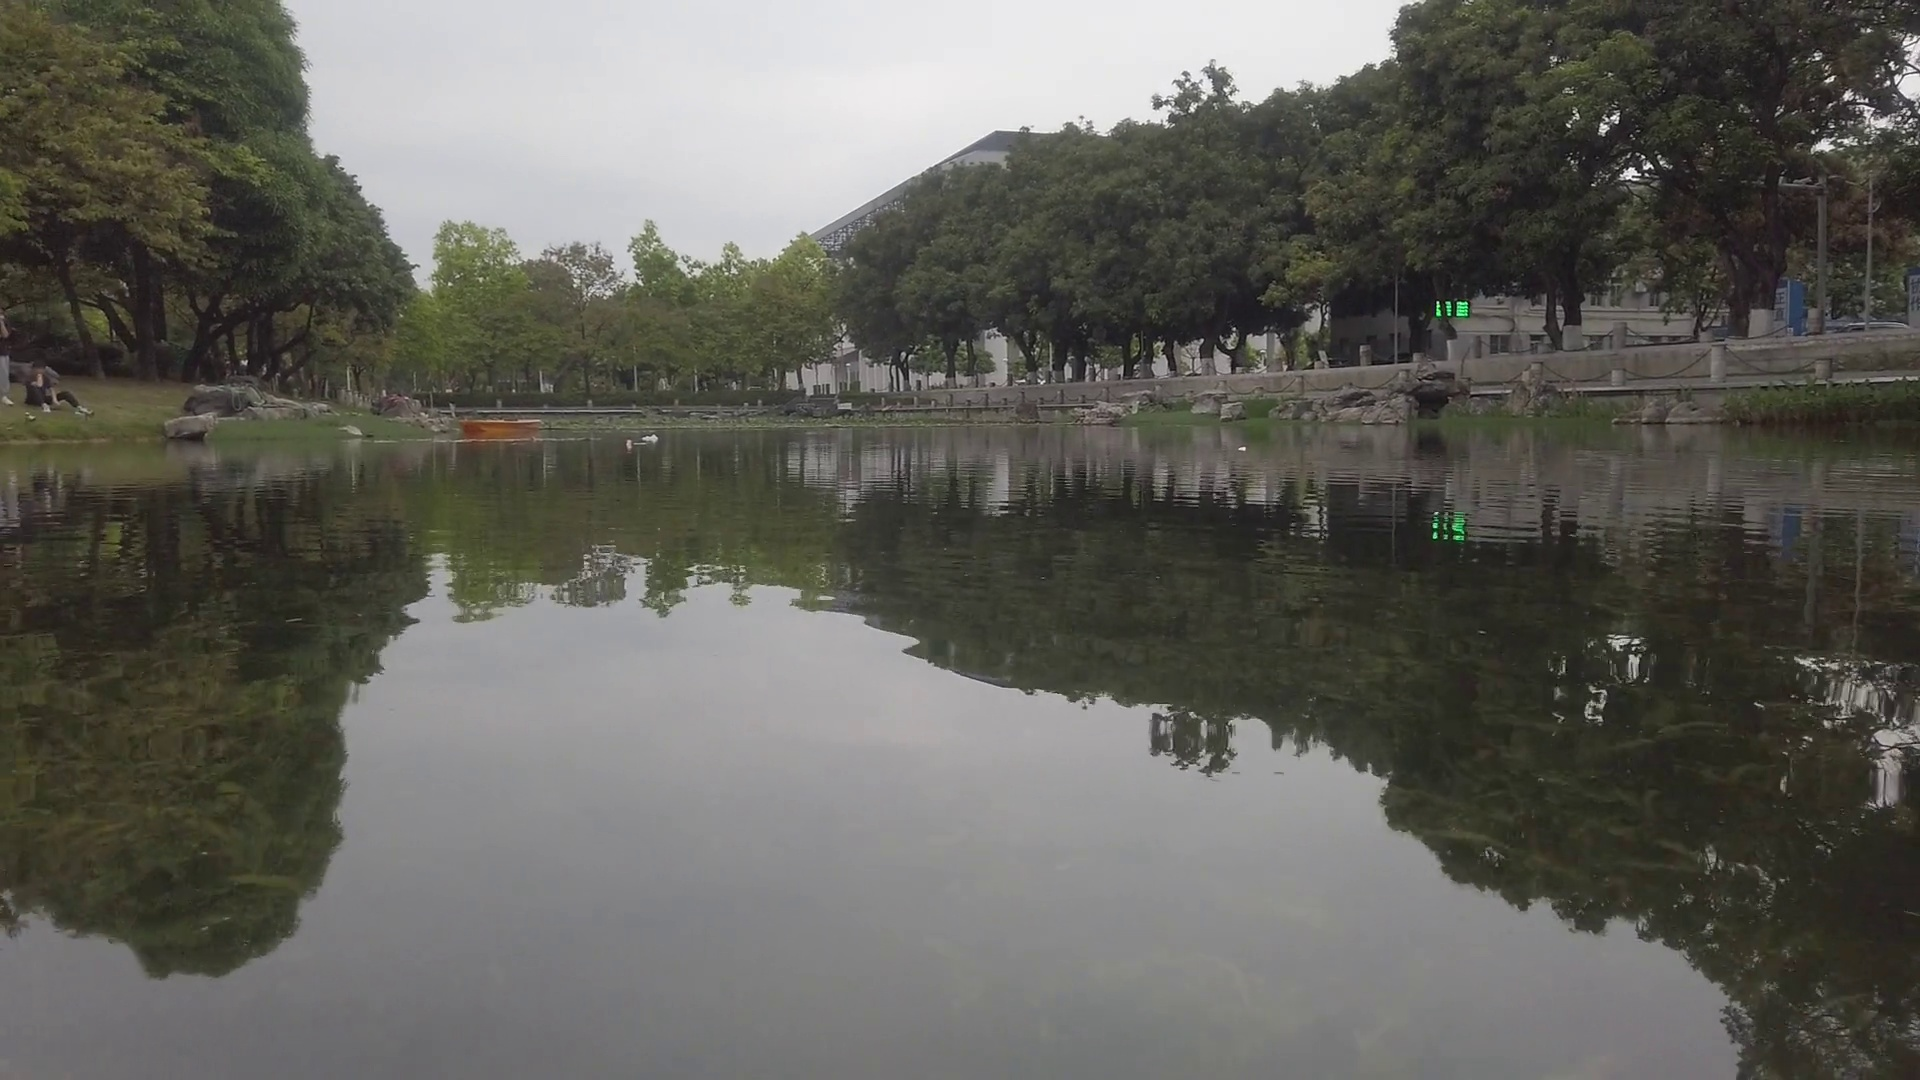paper: (1236, 444, 1251, 458)
plastic: (642, 433, 659, 442)
